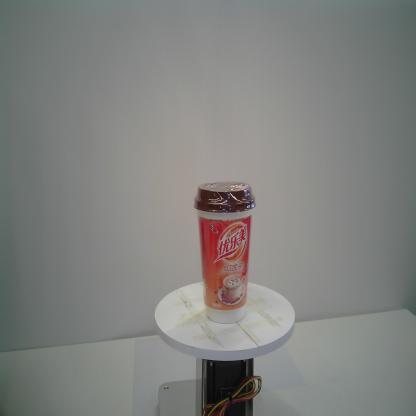Instant Drink: (191, 180, 257, 323)
